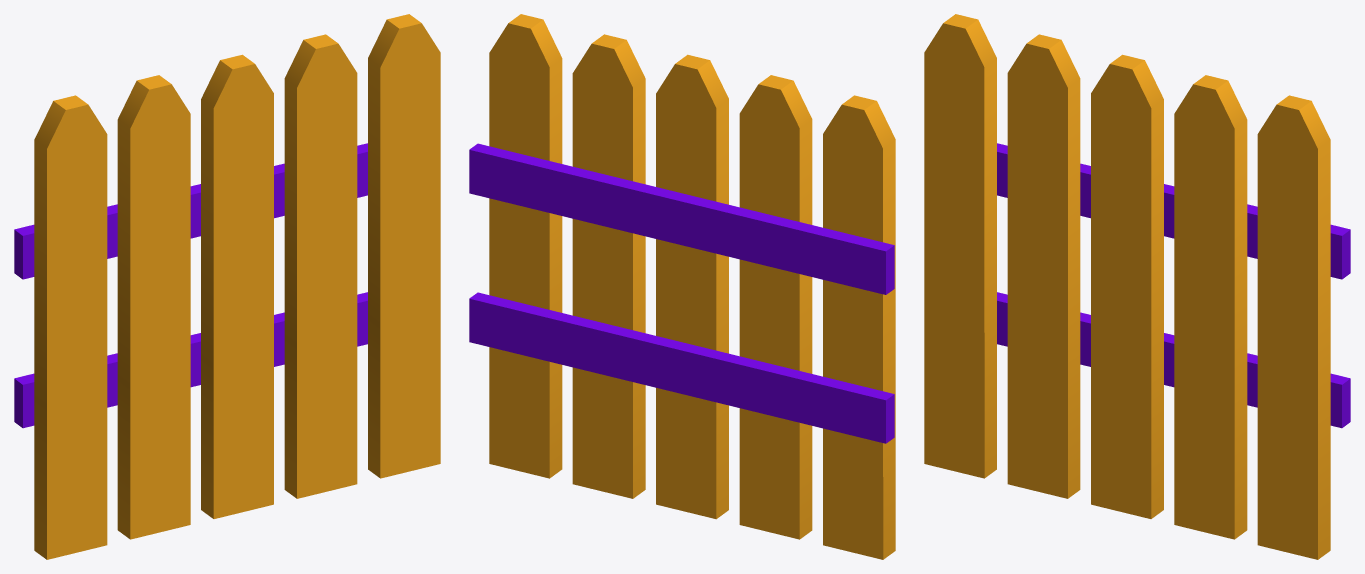
File: Fence_02.fbx
3 views of the same model, side by side, from view 1: azimuth 30°, elevation 25°; view 2: azimuth 150°, elevation 25°; view 3: azimuth 330°, elevation 25° (orthographic).
Parts seen in each view (by area): view 1: Obstacle_Fence_02; view 2: Obstacle_Fence_02; view 3: Obstacle_Fence_02.
Boxes of the visible parts, x1,y1,x2,y2 form: Obstacle_Fence_02: (14, 14, 440, 559); Obstacle_Fence_02: (469, 14, 895, 559); Obstacle_Fence_02: (924, 14, 1350, 559).
Size of the model in its own units: 100 by 102 by 8.85.
1 material, 1 textured.
